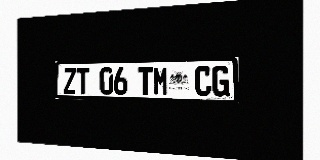0: (100, 67, 113, 95)
6: (114, 67, 128, 95)
C: (195, 66, 211, 96)
G: (212, 66, 229, 97)
M: (153, 67, 168, 96)
T: (138, 67, 153, 95), (76, 68, 89, 94)
Z: (64, 68, 76, 94)
